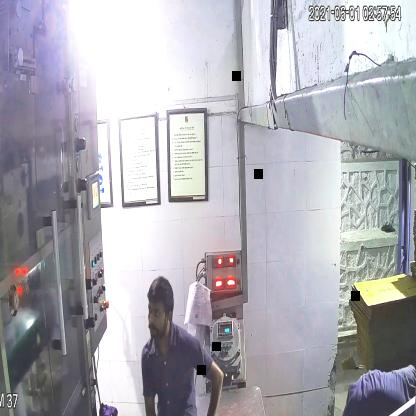no_goggles: (141, 301, 175, 325)
